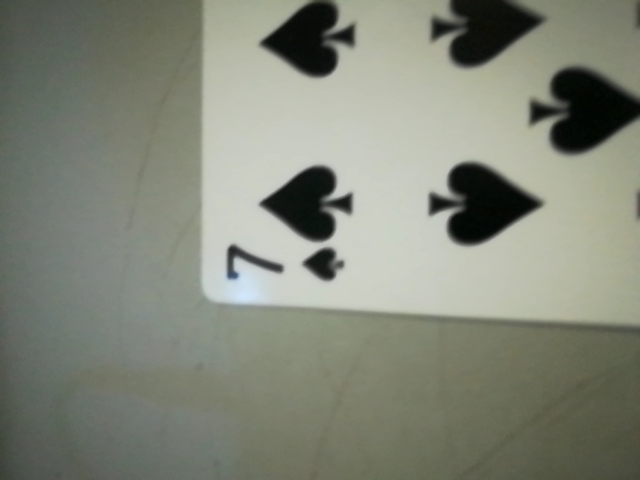ht 7: (205, 225, 358, 305)
